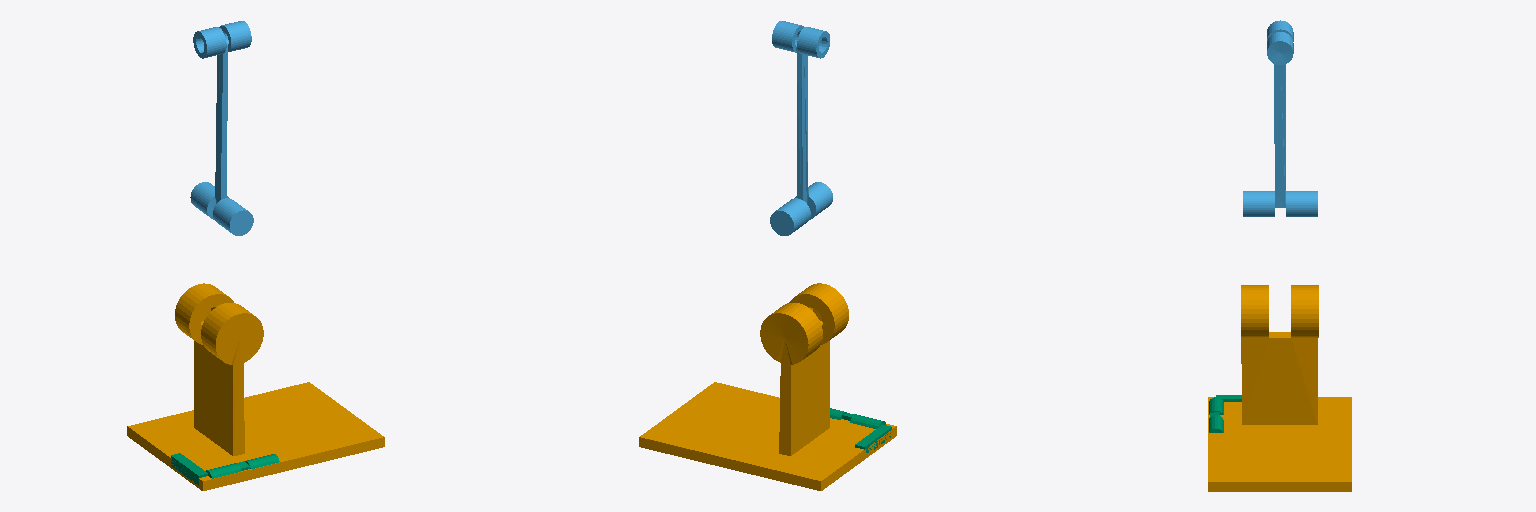
robot.urdf — Robot:
<?xml version="1.0" ?>
<robot name="Robot" xmlns:xacro="http://playerstage.sourceforge.net/gazebo/xmlschema/#interface">
  
  <material name="red">
    <color rgba="0 0 0.8 0.3"/>
  </material>

  <material name="blue">
    <color rgba="1 0 0 1"/>
  </material>  
  


  <link name="robot/chassis">
    <visual>
      <origin rpy="0 0 0" xyz="0 0 0"/>
      <geometry>
	<mesh filename="package://HIL_pkg/meshes/chassis.STL" scale="1 1 1"/>
      </geometry>
    </visual>
    <collision>
      <origin rpy="0 0 0" xyz="0 0 0"/>
      <geometry>
	<mesh filename="package://HIL_pkg/meshes/chassis.STL" scale="1 1 1"/>
      </geometry>
    </collision>
    <inertial>
            <mass value="5" />
            <origin xyz="0 0 0" rpy="0 0 0" />
            <inertia ixx="0.004" ixy="0.001" ixz="0" iyy="0.006" iyz="0" izz="0.007" />
    </inertial>
  </link>

  <link name="robot/bras">
    <visual>
      <origin rpy="0 0 0" xyz="0 0 0"/>
      <geometry>
	<mesh filename="package://HIL_pkg/meshes/bras.STL" scale="1 1 1"/>  
      </geometry>
    </visual>
    <collision>
      <origin rpy="0 0 0" xyz="0 0 0"/>
      <geometry>
	<mesh filename="package://HIL_pkg/meshes/bras.STL" scale="1 1 1"/>
      </geometry>
    </collision>
    <inertial>
            <mass value="5" />
            <origin xyz="0 0 0" rpy="0 0 0" />
            <inertia ixx="0.004" ixy="0.001" ixz="0" iyy="0.006" iyz="0" izz="0.007" />
    </inertial>
  </link>

  <link name="robot/pince">
    <visual>
      <origin rpy="0 0 0" xyz="0 0 0"/>
      <geometry>
	<mesh filename="package://HIL_pkg/meshes/pince.STL" scale="1 1 1"/>
      </geometry>
    </visual>
    <collision>
      <origin rpy="0 0 0" xyz="0 0 0"/>
      <geometry>
	<mesh filename="package://HIL_pkg/meshes/pince.STL" scale="1 1 1"/>
      </geometry>
    </collision>
    <inertial>
            <mass value="5" />
            <origin xyz="0 0 0" rpy="0 0 0" />
            <inertia ixx="0.004" ixy="0.001" ixz="0" iyy="0.006" iyz="0" izz="0.007" />
    </inertial>
  </link>



  <joint name="chassis_bras" type="revolute">
    <parent link="robot/chassis"/>
    <child link="robot/bras"/>
    <origin xyz="0 0 0" />
    <limit effort="30" velocity="1.0" lower="-1.57" upper="0.0" />
    <axis xyz="0 1 0" />
  </joint>

  <joint name="bras_pince" type="revolute">
    <parent link="robot/bras"/>
    <child link="robot/pince"/>
    <origin xyz="0 0 0" />
    <limit effort="30" velocity="1.0" lower="-1.57" upper="0.0" />
    <axis xyz="1 0 0" />
  </joint>
</robot>

--- Render facts (derived) ---
The picture shows the robot from 3 angles, left to right: view 1: azimuth 30°, elevation 25°; view 2: azimuth 150°, elevation 25°; view 3: azimuth 270°, elevation 25°; orthographic projection.
Robot: Robot — 3 links, 2 joints (2 revolute); root link robot/chassis; default pose: all joints at 0.
Links seen in each view (by area): view 1: robot/chassis, robot/bras, robot/pince; view 2: robot/chassis, robot/bras, robot/pince; view 3: robot/chassis, robot/bras, robot/pince.
Link boxes in pixels (x1,y1,x2,y2): robot/chassis: (127,283,384,490); robot/bras: (190,21,253,235); robot/pince: (171,453,279,485); robot/chassis: (639,283,896,490); robot/bras: (770,21,832,235); robot/pince: (830,408,891,452); robot/chassis: (1208,285,1351,491); robot/bras: (1243,20,1317,216); robot/pince: (1209,395,1241,432).
Bounding box of the posed robot: 0.188 × 0.135 × 0.418 m (x, y, z).
3 mesh visuals loaded from 3 distinct referenced files (3 binary STL).
